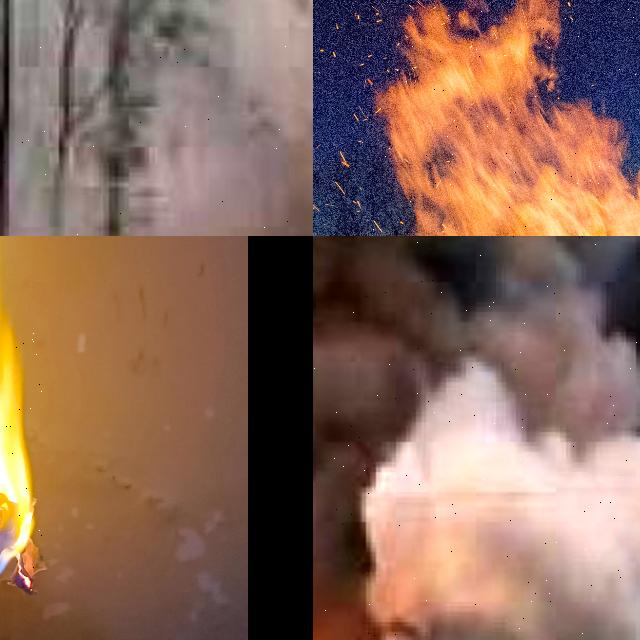fire: (378, 0, 640, 236), (0, 288, 42, 592)
smoke: (313, 236, 640, 640), (0, 32, 313, 236)
